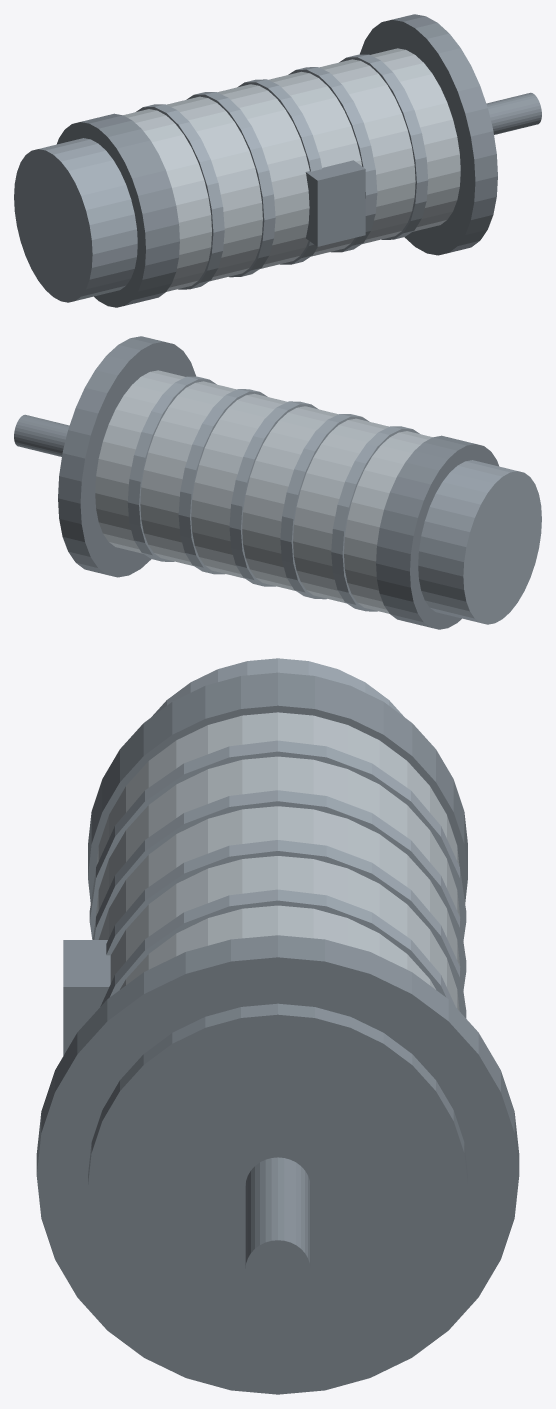
File: iec_63_b5.glb
The picture shows the model from 3 angles, top to bottom: view 1: azimuth 30°, elevation 25°; view 2: azimuth 150°, elevation 25°; view 3: azimuth 270°, elevation 25°; orthographic projection. The views are drawn at different scales.
Visible parts, largest first — view 1: iec_63_b5; view 2: iec_63_b5; view 3: iec_63_b5.
Part boxes in pixels (bbox=[...]): iec_63_b5: bbox=[14, 14, 541, 307]; iec_63_b5: bbox=[14, 336, 541, 629]; iec_63_b5: bbox=[36, 658, 519, 1394].
Bounding box in the file's own units: 1.7 × 0.7392 × 0.7392.
